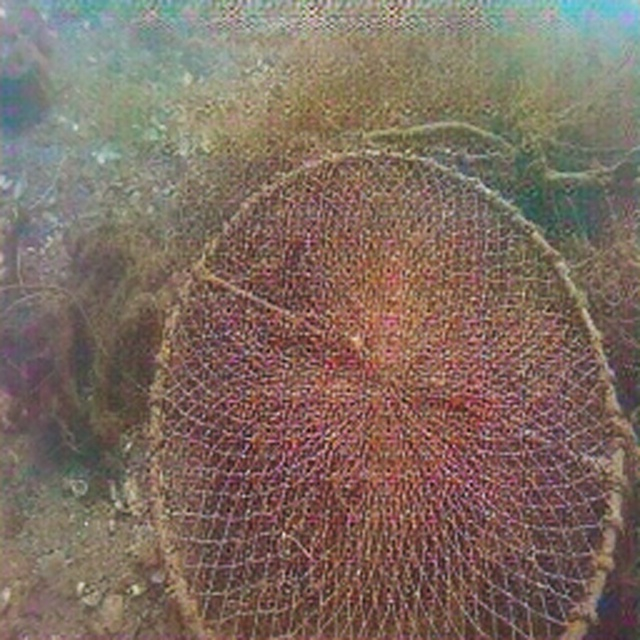mine: (144, 146, 623, 639)
